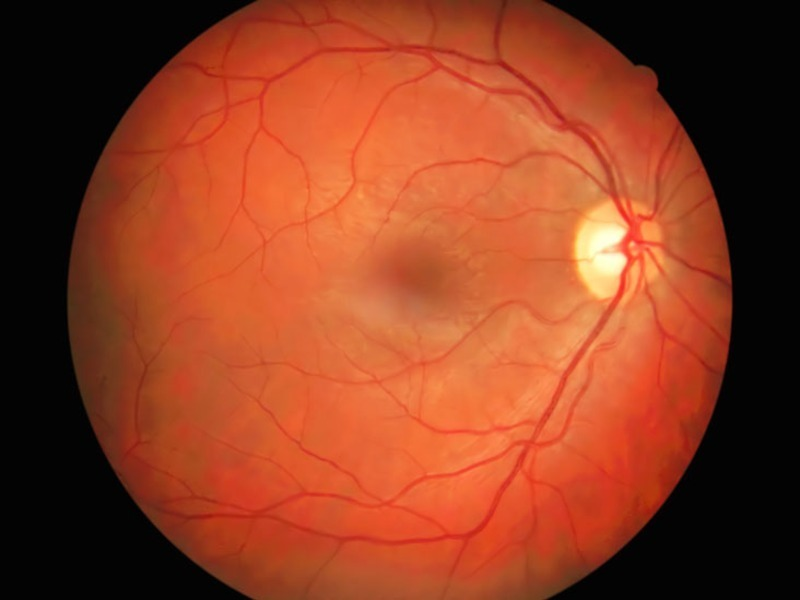Optic Cup: (573, 220, 623, 298)
Optic Disc: (573, 197, 665, 304)
